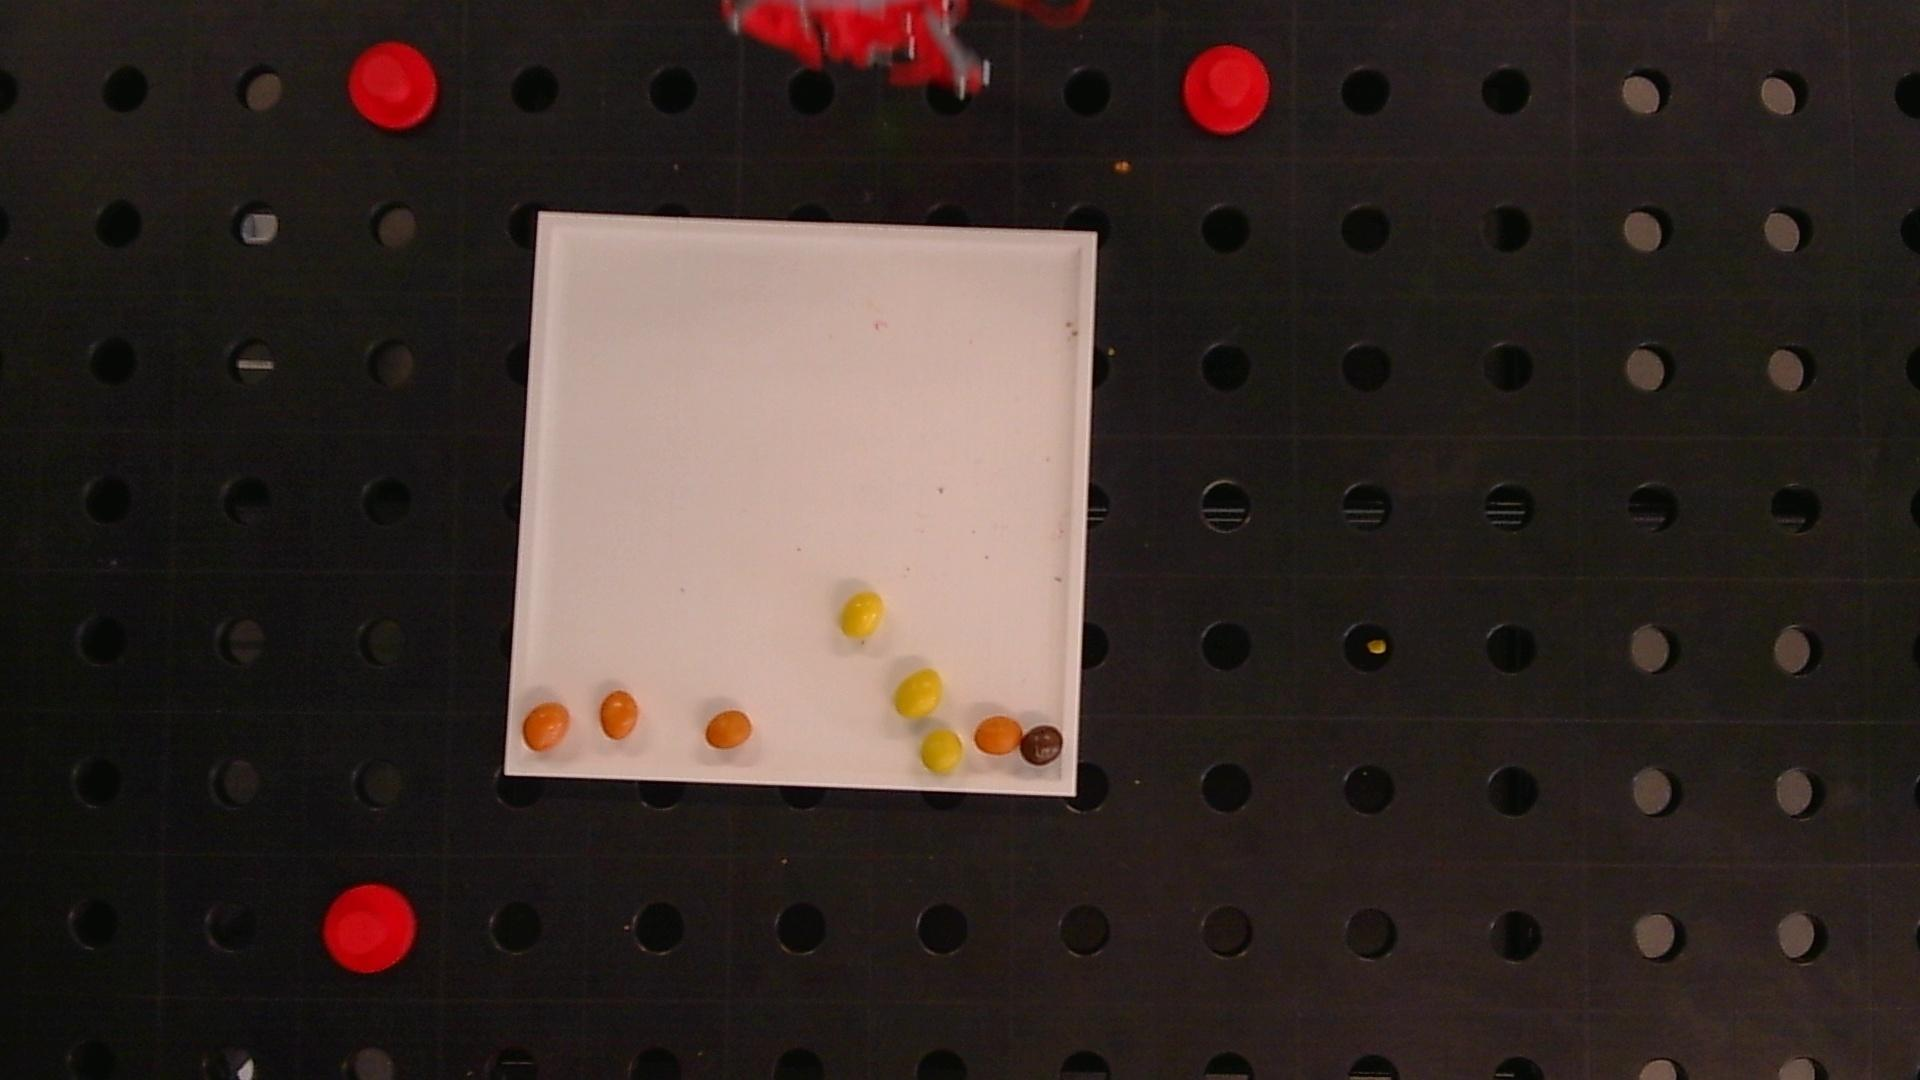brown: (1019, 724, 1064, 765)
orange: (522, 703, 570, 750), (973, 715, 1023, 754), (600, 690, 638, 738), (705, 709, 752, 749)
yellow: (895, 669, 943, 719), (843, 591, 882, 640), (920, 729, 963, 774)
